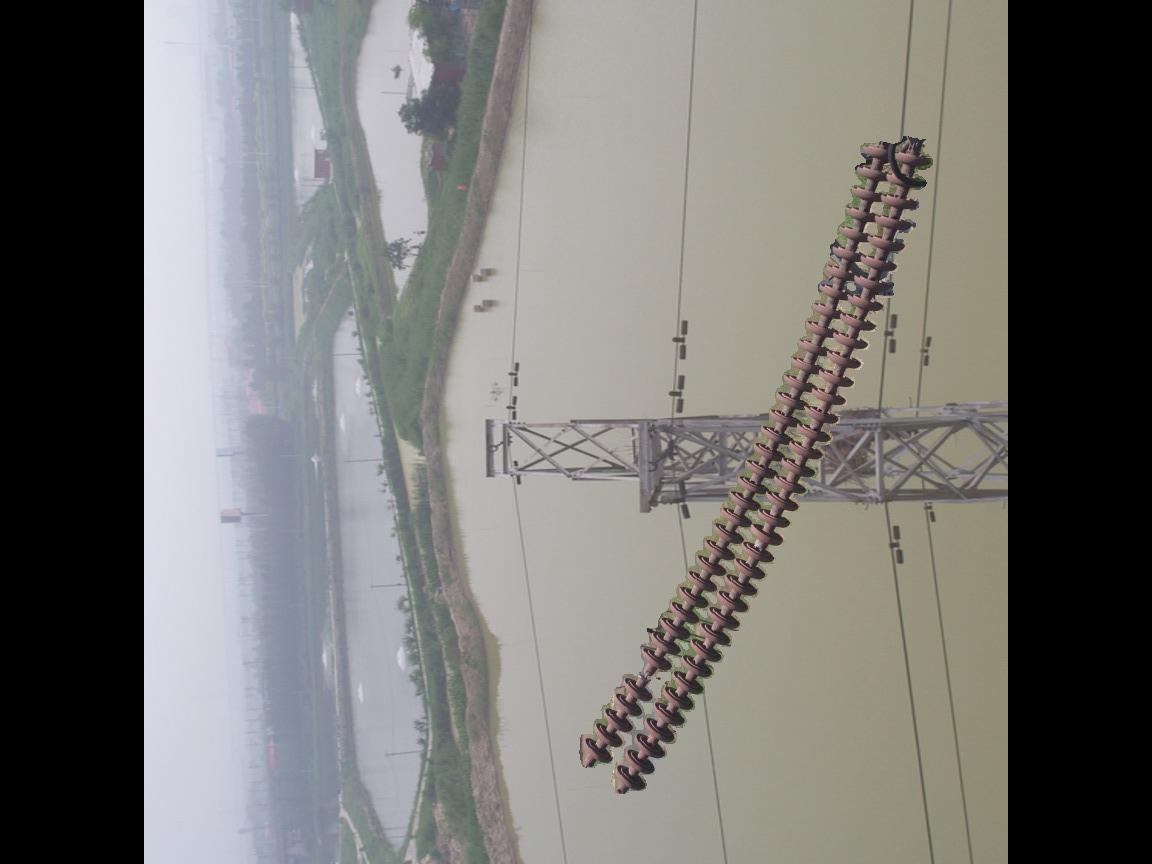insulator: (575, 134, 934, 802)
insulator_stringdrop: (620, 644, 674, 703)
